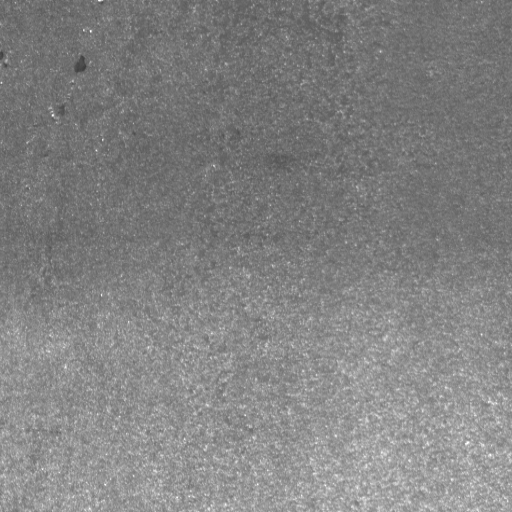aokeng: (46, 101, 70, 127)
